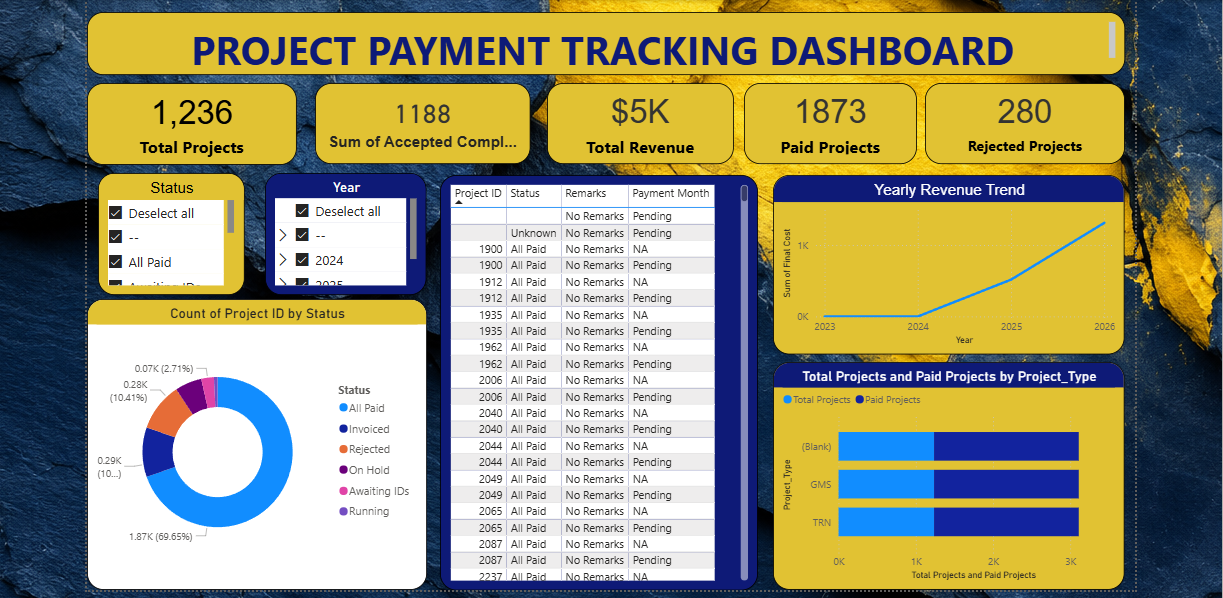

The dashboard page shown, as its layout file describes it:
{"tool":"powerbi","page":{"name":"Dashboard","canvas":[1280,720],"ordinal":0},"visuals":[{"type":"advanceCardE03760C5AB684758B56AA29F9E6C257B","fields":{"mainMeasure":["April_CLEAN.Total Projects"]},"box":[0,101.3,256,100],"z":0},{"type":"advanceCardE03760C5AB684758B56AA29F9E6C257B","fields":{"mainMeasure":["MASTER_DATA.Total Revenue"]},"box":[561.3,101.3,228,98.7],"z":1000},{"type":"advanceCardE03760C5AB684758B56AA29F9E6C257B","fields":{"mainMeasure":["MASTER_DATA.Paid Projects"]},"box":[801.3,101.3,210.7,98.7],"z":2000},{"type":"advanceCardE03760C5AB684758B56AA29F9E6C257B","fields":{"mainMeasure":["MASTER_DATA.Rejected Projects"]},"box":[1022.7,101.3,244,98.7],"z":3000},{"type":"listSlicer","fields":{"Values":["MASTER_PAYMENT.Status"]},"box":[13.3,210.7,178.7,149.3],"z":4000},{"type":"listSlicer","fields":{"Values":["MASTER_PAYMENT.Project Month.Variation.Date Hierarchy.Year","MASTER_PAYMENT.Project Month.Variation.Date Hierarchy.Quarter","MASTER_PAYMENT.Project Month.Variation.Date Hierarchy.Month","MASTER_PAYMENT.Project Month.Variation.Date Hierarchy.Day"]},"box":[217.3,210.7,197.3,149.3],"z":5000},{"type":"donutChart","fields":{"Category":["MASTER_PAYMENT.Status"],"Y":["CountNonNull(MASTER_PAYMENT.Project ID)"]},"box":[0,365.3,414.7,354.7],"z":6000},{"type":"lineChart","title":"Yearly Revenue Trend","fields":{"Y":["Sum(MASTER_PAYMENT.Final Cost)"],"Category":["MASTER_PAYMENT.Project Month.Variation.Date Hierarchy.Year"]},"box":[837.3,213.3,429.3,218.7],"z":7000},{"type":"tableEx","fields":{"Values":["MASTER_PAYMENT.Project ID","MASTER_PAYMENT.Status","MASTER_PAYMENT.Remarks","MASTER_PAYMENT.Payment Month"]},"box":[430.7,213.3,388,506.7],"z":8000},{"type":"advanceCardE03760C5AB684758B56AA29F9E6C257B","fields":{"mainMeasure":["Sum(MASTER_PAYMENT.Accepted Complete)"]},"box":[278.7,101.3,262.7,98.7],"z":9000},{"type":"textbox","box":[0,14.7,1266.7,77.3],"z":10000},{"type":"barChart","fields":{"Y":["April_CLEAN.Total Projects","MASTER_DATA.Paid Projects"],"Category":["MASTER_DATA.Project_Type"]},"box":[837,442,429,278],"z":11000}]}

Visuals, with their boxes in screenshot pixels (x1, y1, x2, y2):
advanceCardE03760C5AB684758B56AA29F9E6C257B - April_CLEAN.Total Projects: 83 80 293 162
advanceCardE03760C5AB684758B56AA29F9E6C257B - MASTER_DATA.Total Revenue: 543 80 730 161
advanceCardE03760C5AB684758B56AA29F9E6C257B - MASTER_DATA.Paid Projects: 740 80 913 161
advanceCardE03760C5AB684758B56AA29F9E6C257B - MASTER_DATA.Rejected Projects: 922 80 1122 161
listSlicer - MASTER_PAYMENT.Status: 94 170 240 292
listSlicer - MASTER_PAYMENT.Project Month.Variation.Date Hierarchy.Year x MASTER_PAYMENT.Project Month.Variation.Date Hierarchy.Quarter: 261 170 423 292
donutChart - MASTER_PAYMENT.Status x CountNonNull(MASTER_PAYMENT.Project ID): 83 296 423 587
"Yearly Revenue Trend" lineChart: 769 172 1122 351
tableEx - MASTER_PAYMENT.Project ID x MASTER_PAYMENT.Status: 436 172 754 587
advanceCardE03760C5AB684758B56AA29F9E6C257B - Sum(MASTER_PAYMENT.Accepted Complete): 311 80 527 161
textbox: 83 9 1122 72
barChart - April_CLEAN.Total Projects x MASTER_DATA.Paid Projects: 769 359 1121 587
